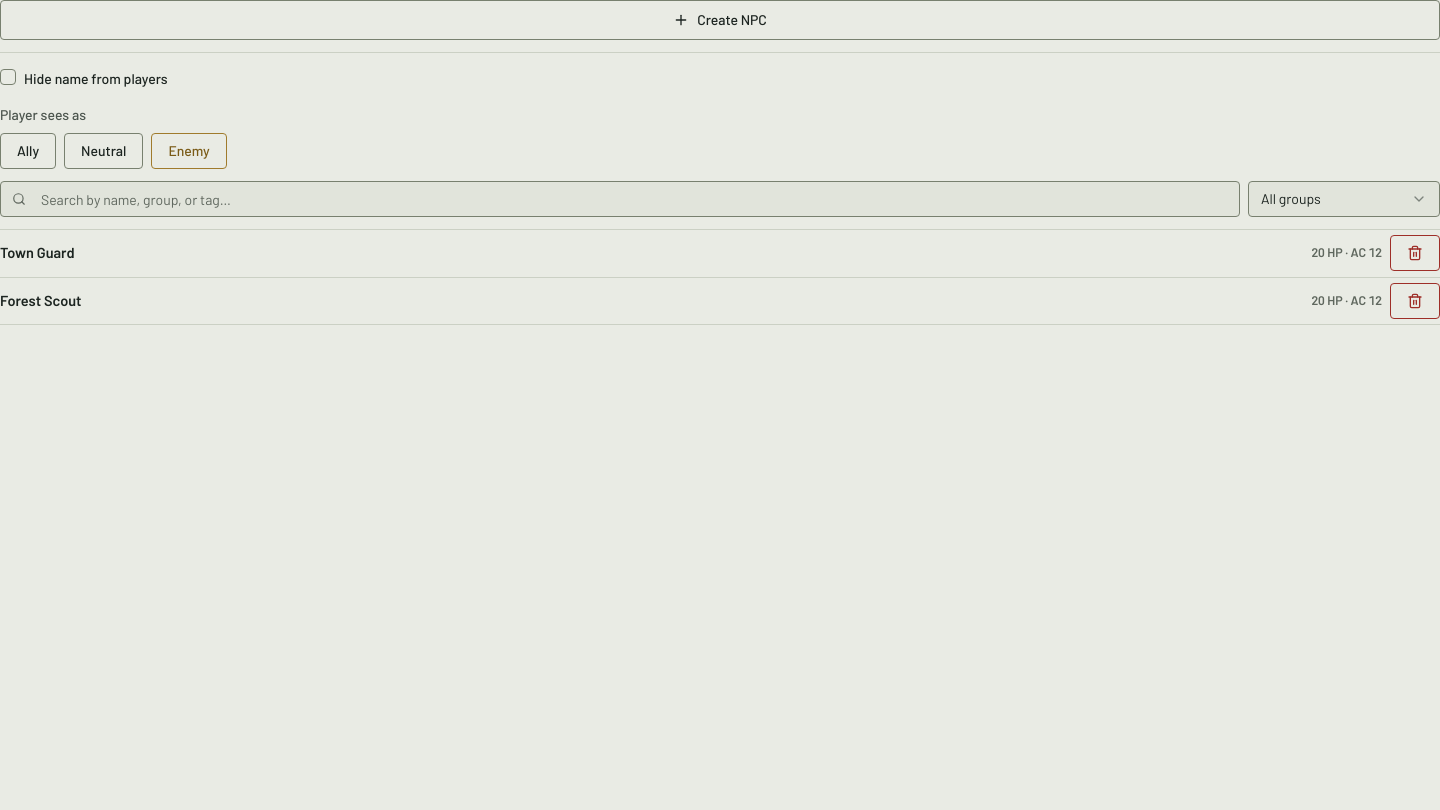
Test case: NpcTab — deleting a saved NPC › drops the NPC from the list while the tab stays open
Expected: the text "Town Guard" is shown, [0,243,74,261]
Click the button named "Delete Town Guard". click: (1415, 253)
box: [1390,235,1439,271]
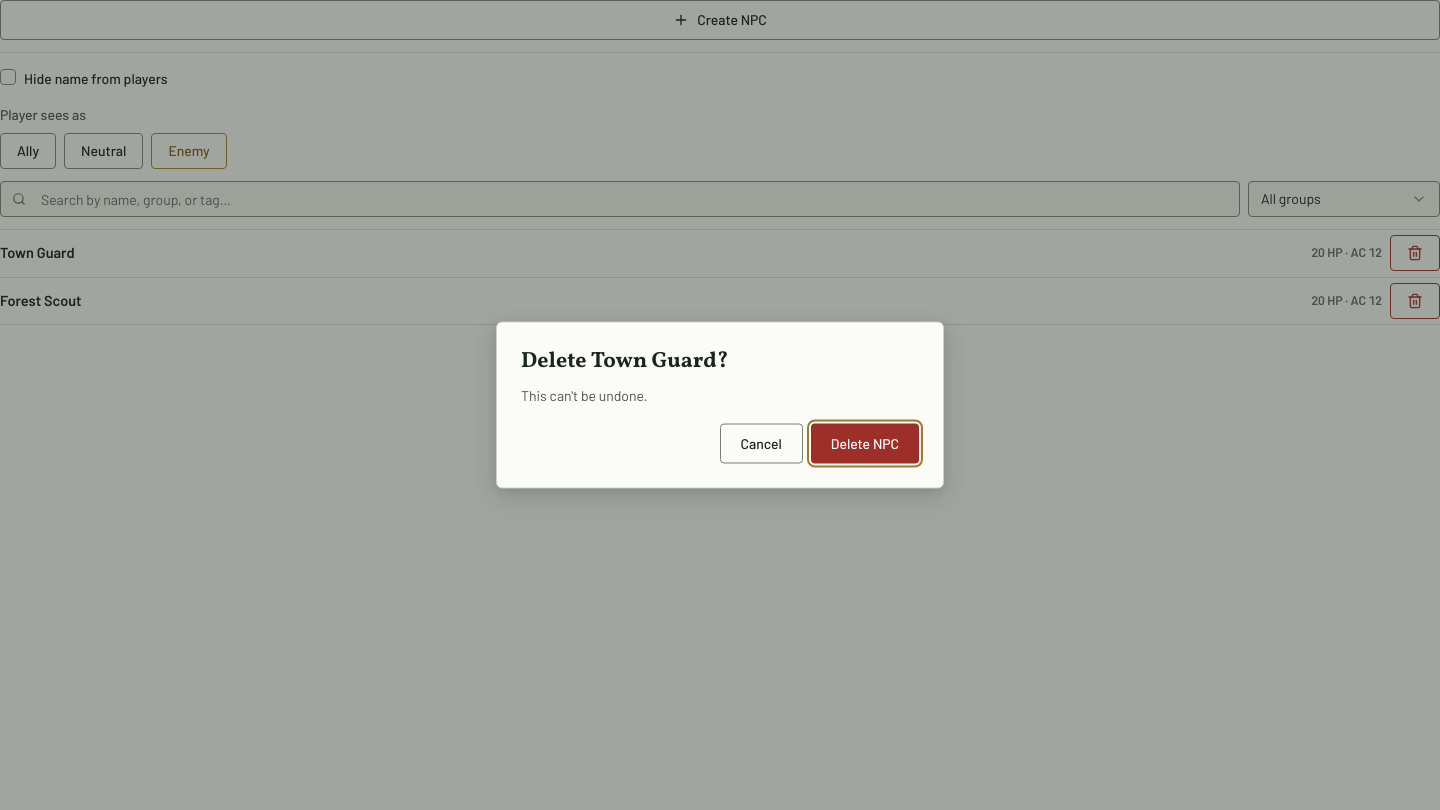
Click the button "Delete NPC". click: (865, 444)
box: [811,424,919,464]
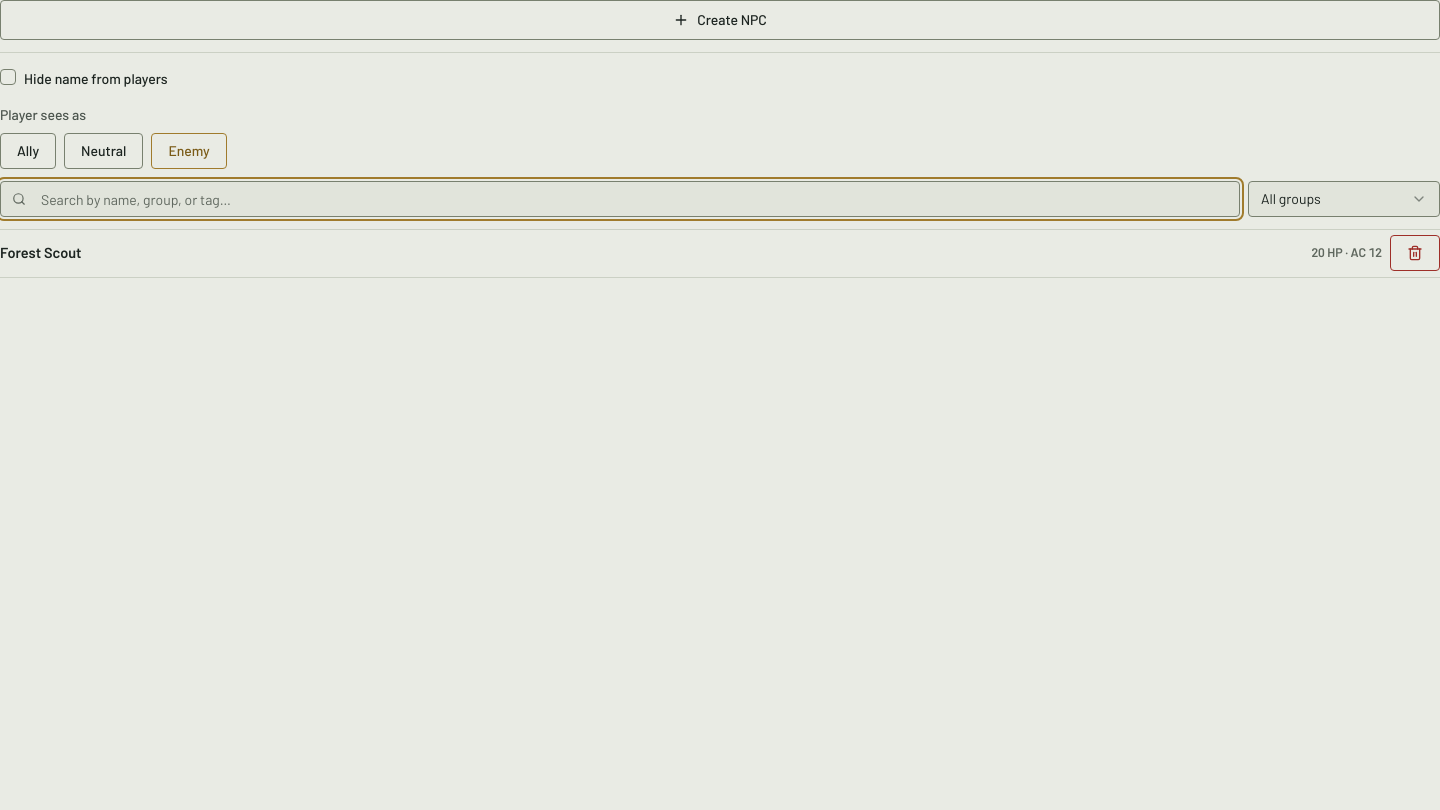
Expected: the text "Forest Scout" is shown, [0,243,82,261]
Expected: the button "Town Guard" is gone
